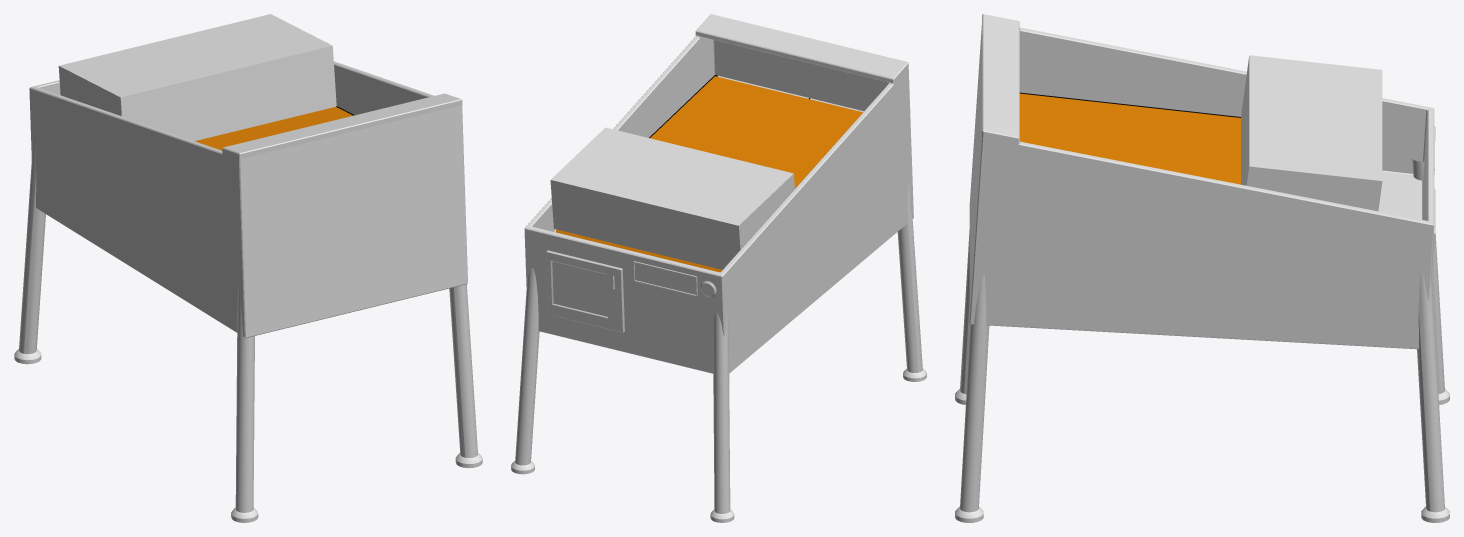
Rendered from ArcadeMachine.fbx.
3 views of the same model, side by side, from view 1: azimuth 30°, elevation 25°; view 2: azimuth 150°, elevation 25°; view 3: azimuth 270°, elevation 25° (orthographic). The views are drawn at different scales.
Visible parts, largest first — view 1: Arcade, ActionAreaCube, Leg.001, Leg, Leg.003, ActionArea; view 2: Arcade, ActionAreaCube, ActionArea, MoneySlot, Leg.003, Leg.002, Leg.001, Button Sign; view 3: Arcade, ActionAreaCube, ActionArea, Leg.002, Leg, Leg.003, Leg.001.
Part boxes in pixels (left/top/right/bottom): Arcade: left=29, top=61, right=467, bottom=338; ActionAreaCube: left=58, top=14, right=336, bottom=141; Leg.001: left=231, top=287, right=258, bottom=522; Leg: left=449, top=284, right=482, bottom=468; Leg.003: left=14, top=138, right=45, bottom=364; ActionArea: left=195, top=107, right=352, bottom=150; Arcade: left=524, top=14, right=913, bottom=373; ActionAreaCube: left=550, top=127, right=794, bottom=269; ActionArea: left=650, top=76, right=862, bottom=188; MoneySlot: left=546, top=250, right=624, bottom=332; Leg.003: left=710, top=312, right=734, bottom=522; Leg.002: left=511, top=267, right=539, bottom=474; Leg.001: left=897, top=181, right=926, bottom=381; Button Sign: left=633, top=261, right=697, bottom=296; Arcade: left=969, top=14, right=1434, bottom=349; ActionAreaCube: left=1241, top=55, right=1382, bottom=211; ActionArea: left=1019, top=93, right=1240, bottom=184; Leg.002: left=1417, top=272, right=1449, bottom=522; Leg: left=955, top=275, right=989, bottom=522; Leg.003: left=1412, top=157, right=1449, bottom=404; Leg.001: left=955, top=230, right=970, bottom=404.
Size of the model in its own units: 88.68 by 123 by 143.
